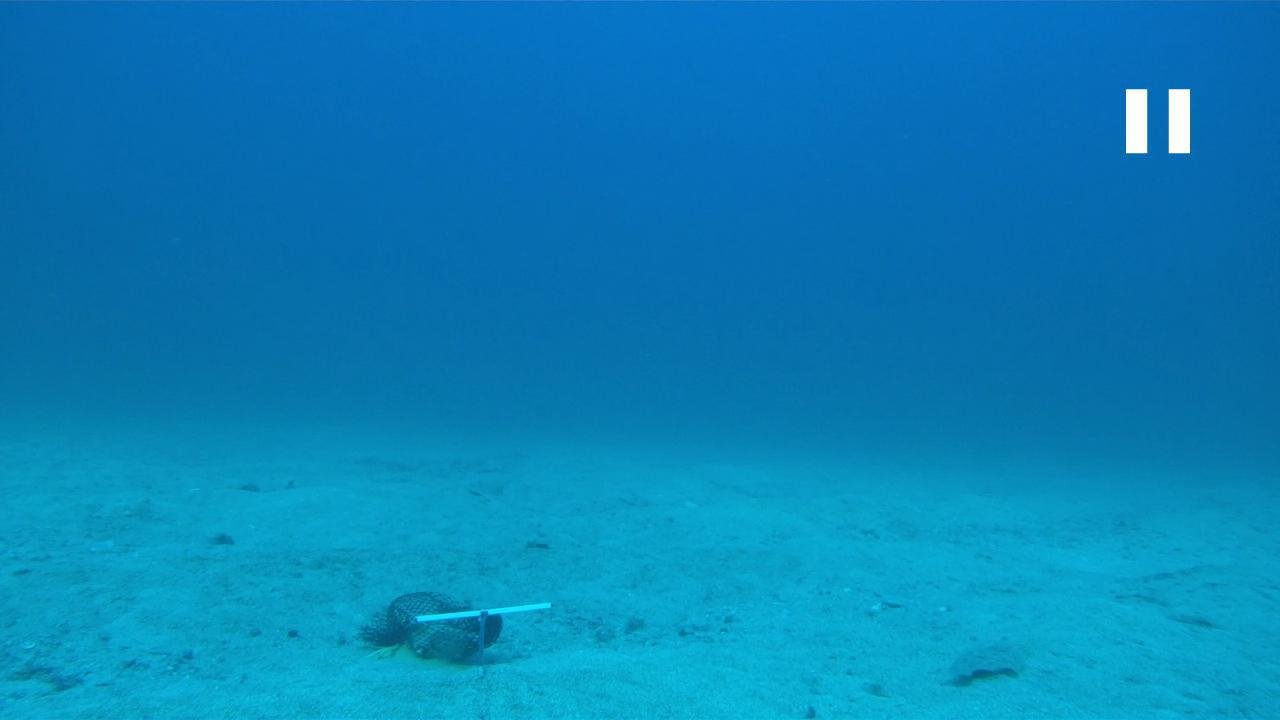bothus: (942, 635, 1024, 688)
